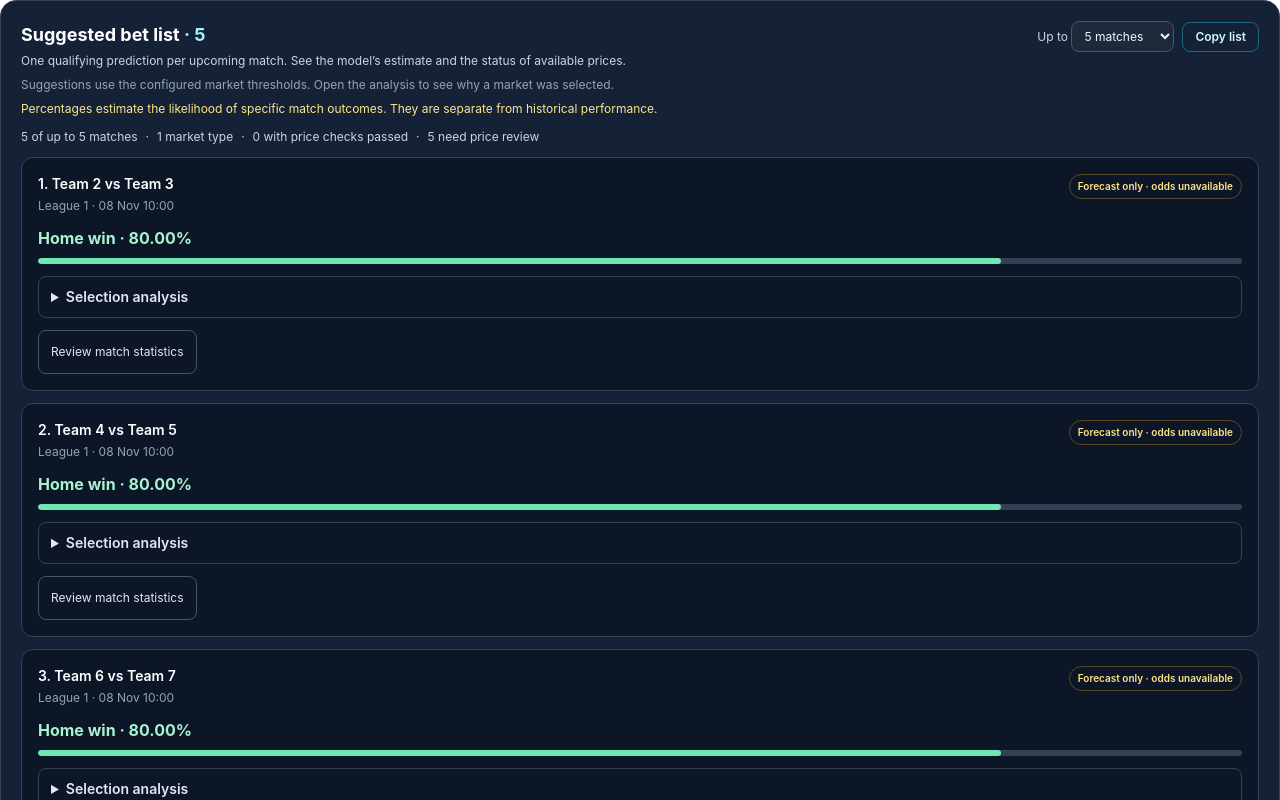
Test: requesting ten matches keeps ten qualifying entries even when their bet option repeats
Select "10 matches" in the dropdown named "Suggested bet list size" at (1123, 36), box x1=1071 y1=21 x2=1174 y2=52
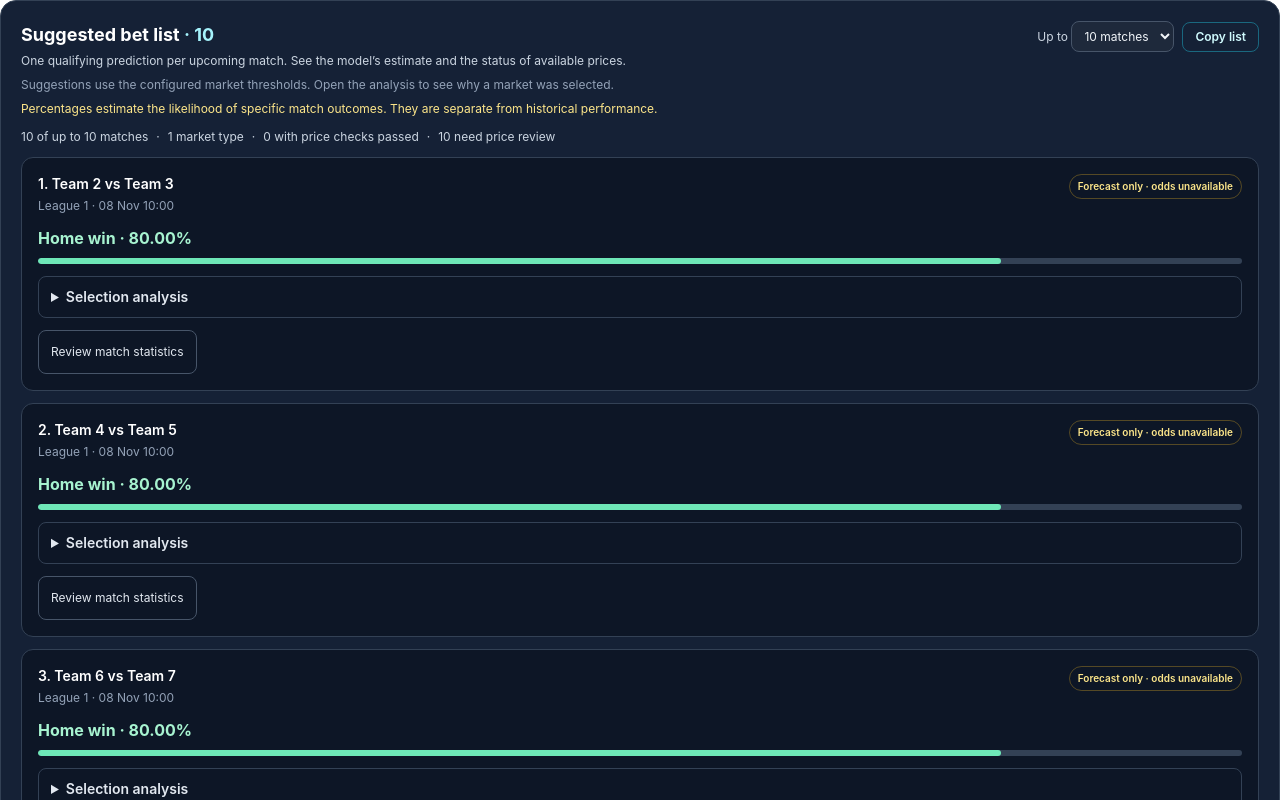
Expected: the text "10 of up to 10 matches" is shown, x1=21 y1=129 x2=148 y2=145
